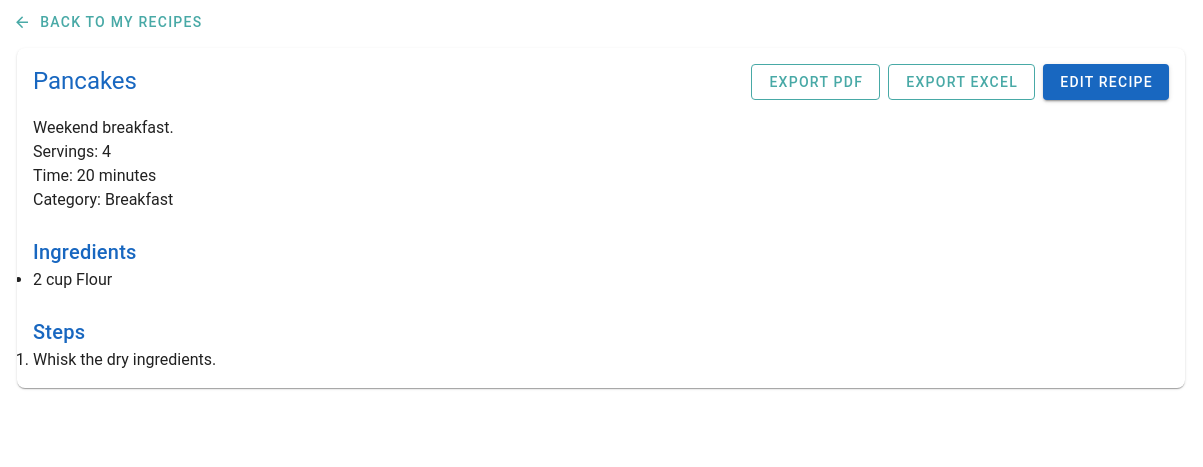
Feature 5 — Export Recipes › US-5.1 — Export a recipe as PDF › Recipe export PDF fails on the client
What coordinates should you click on to do the following:
click the button "Export PDF"
I would click on:
 (816, 82)
Its box is [751,64,880,100].
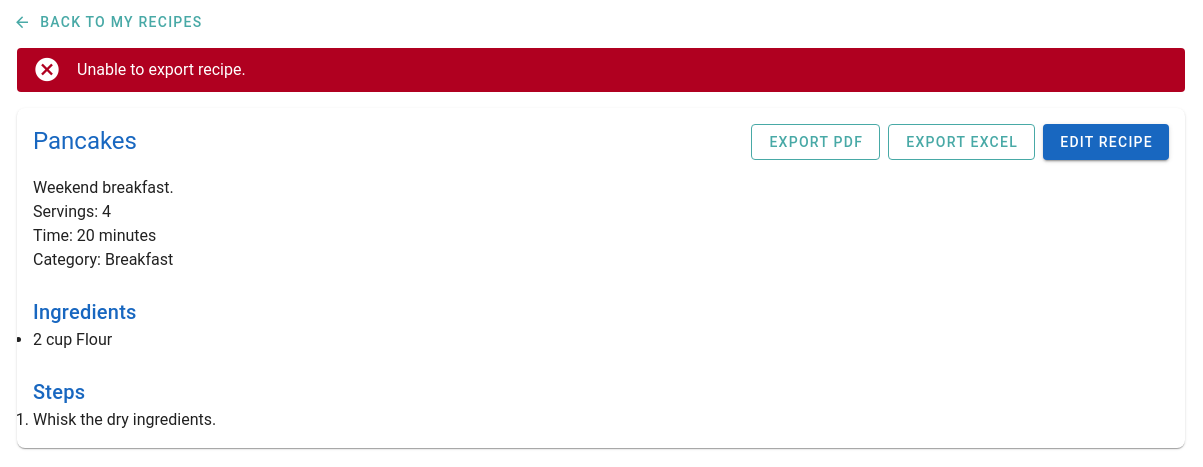
Expected: the text "Pancakes" is shown, [33,126,137,158]
Now the message "Unable to export recipe." is shown, box [17,48,1185,92]
Now the text "Unable to export recipe." is shown, box [77,60,246,79]
